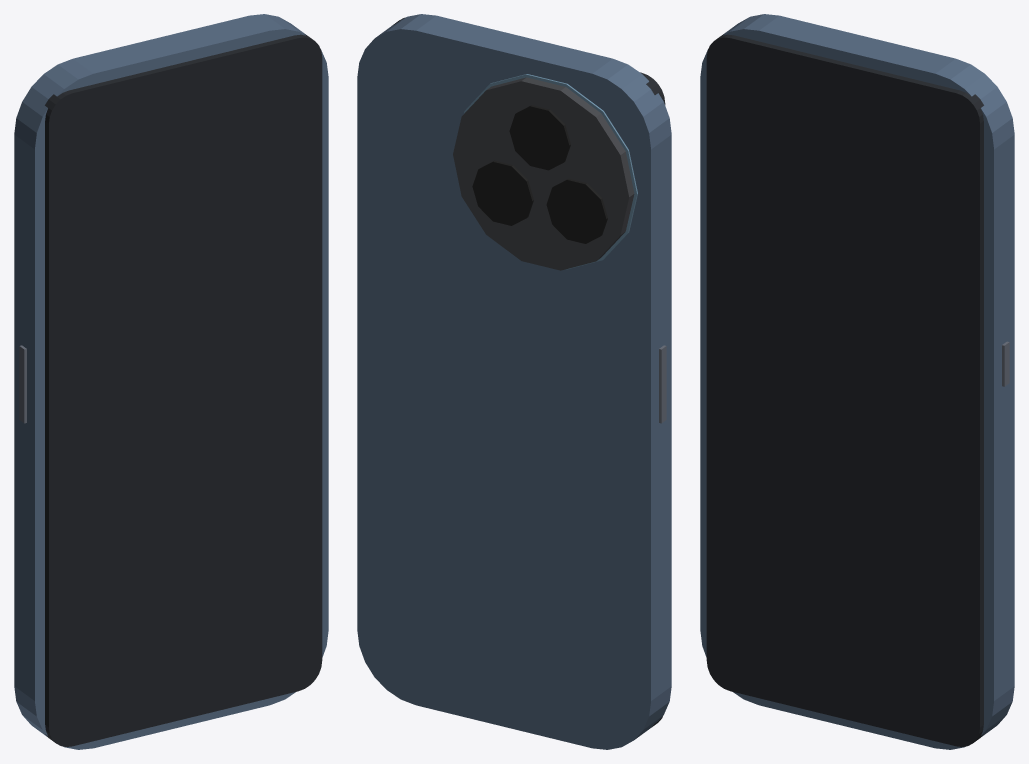
File: 20_vivo_x80_pro.glb
3 renders of one model, left to right at view 1: azimuth 30°, elevation 25°; view 2: azimuth 150°, elevation 25°; view 3: azimuth 330°, elevation 25°, orthographic.
Visible parts, largest first — view 1: geometry_1, geometry_0, geometry_3; view 2: geometry_0, geometry_5, geometry_7, geometry_11, geometry_9, geometry_6, geometry_3; view 3: geometry_1, geometry_0.
Boxes of the visible parts, bbox=[...] form: geometry_1: bbox=[45, 34, 322, 746]; geometry_0: bbox=[14, 14, 328, 749]; geometry_3: bbox=[19, 345, 26, 423]; geometry_0: bbox=[357, 14, 671, 749]; geometry_5: bbox=[453, 77, 634, 270]; geometry_7: bbox=[509, 105, 570, 170]; geometry_11: bbox=[472, 160, 533, 225]; geometry_9: bbox=[546, 179, 607, 243]; geometry_6: bbox=[464, 74, 637, 269]; geometry_3: bbox=[659, 345, 666, 423]; geometry_1: bbox=[706, 34, 983, 746]; geometry_0: bbox=[700, 14, 1014, 749].
Bounding box in the file's own units: 0.2433 × 0.5272 × 0.0454.
